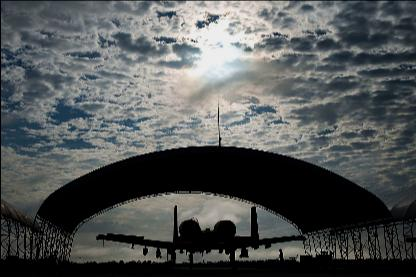A10: (96, 204, 306, 268)
